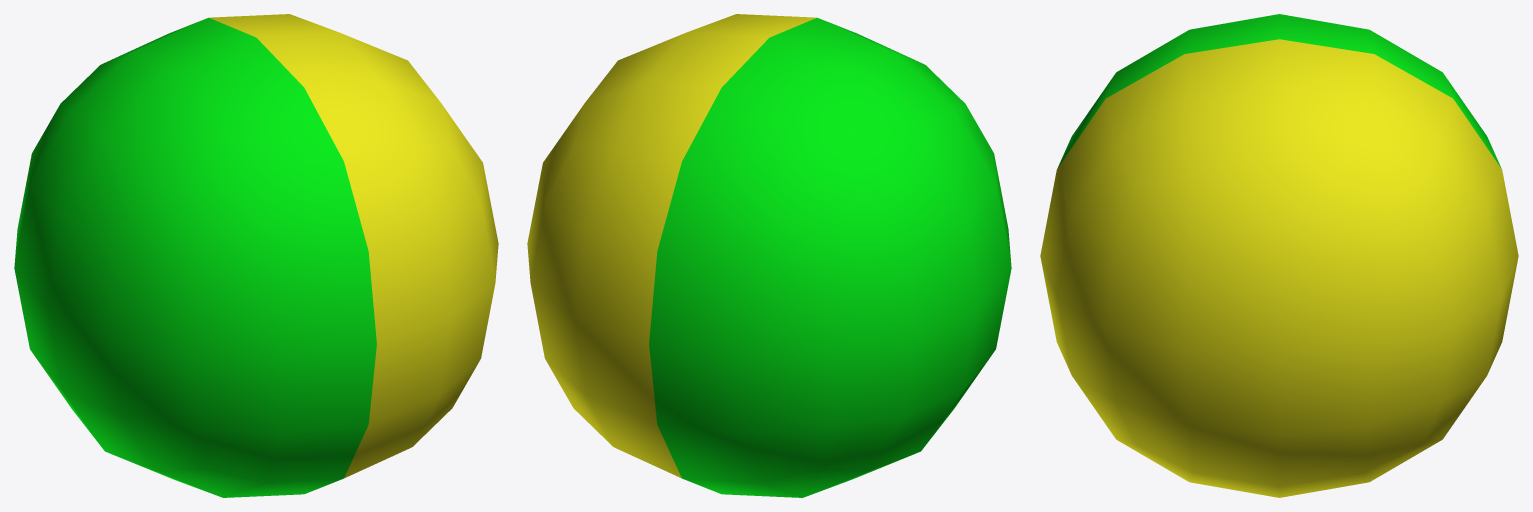
File: Mesh_2Mat_0Blend.gltf
3 views of the same model, side by side, from view 1: azimuth 30°, elevation 25°; view 2: azimuth 150°, elevation 25°; view 3: azimuth 270°, elevation 25° (orthographic).
Visible parts, largest first — view 1: Mesh_2Mat_0Blend; view 2: Mesh_2Mat_0Blend; view 3: Mesh_2Mat_0Blend.
Part boxes in pixels (left/top/right/bottom): Mesh_2Mat_0Blend: left=14, top=14, right=498, bottom=497; Mesh_2Mat_0Blend: left=527, top=14, right=1011, bottom=497; Mesh_2Mat_0Blend: left=1040, top=14, right=1518, bottom=497.
Size of the model in its own units: 0.8395 by 0.8395 by 0.8395.
